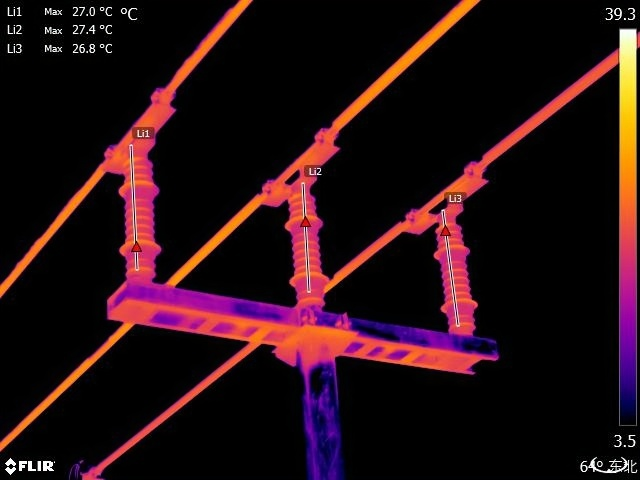post insulator: (282, 190, 341, 309), (113, 152, 163, 288), (433, 217, 479, 333)
